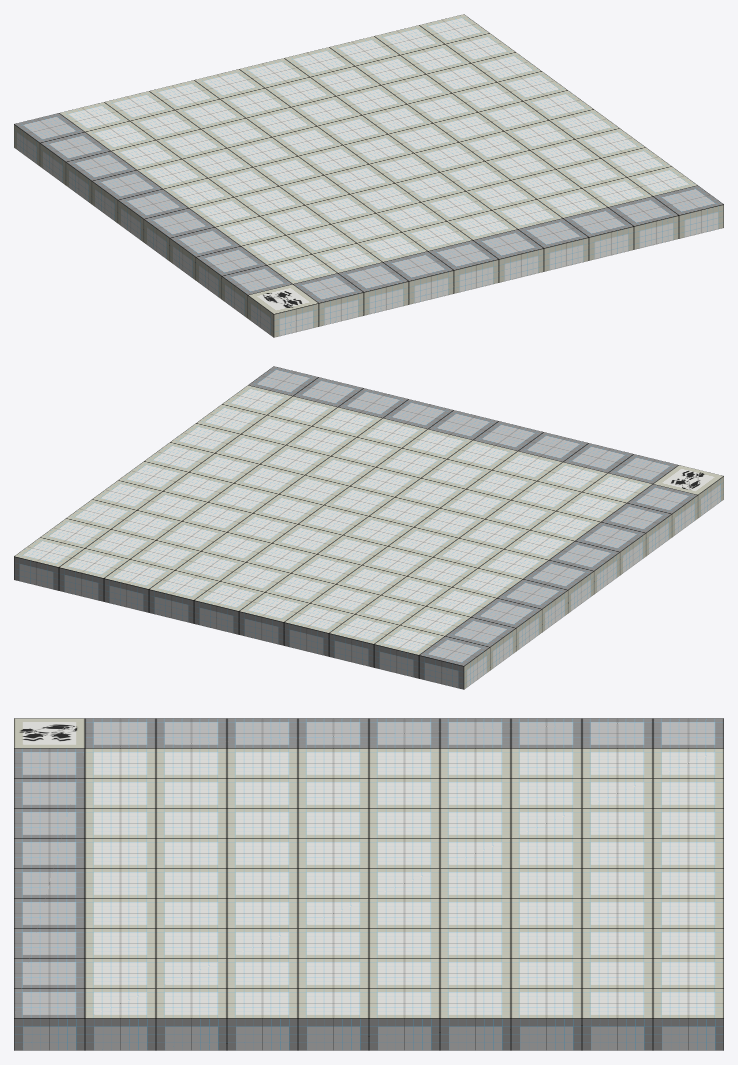
The model's file is Brick Flat 10x10.fbx.
3 views of the same model, one above another, from view 1: azimuth 30°, elevation 25°; view 2: azimuth 150°, elevation 25°; view 3: azimuth 270°, elevation 25° (orthographic). The views are drawn at different scales.
Parts seen in each view (by area): view 1: Cube; view 2: Cube; view 3: Cube.
Part boxes in pixels (x1,y1,x2,y2): Cube: [14, 14, 723, 337]; Cube: [14, 366, 723, 689]; Cube: [14, 718, 723, 1050].
Size of the model in its own units: 1000 by 50 by 1000.
